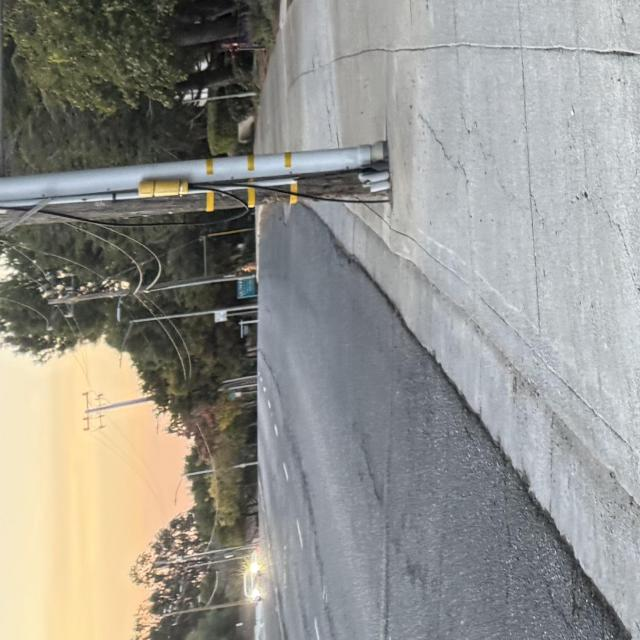pole: (0, 139, 386, 224)
